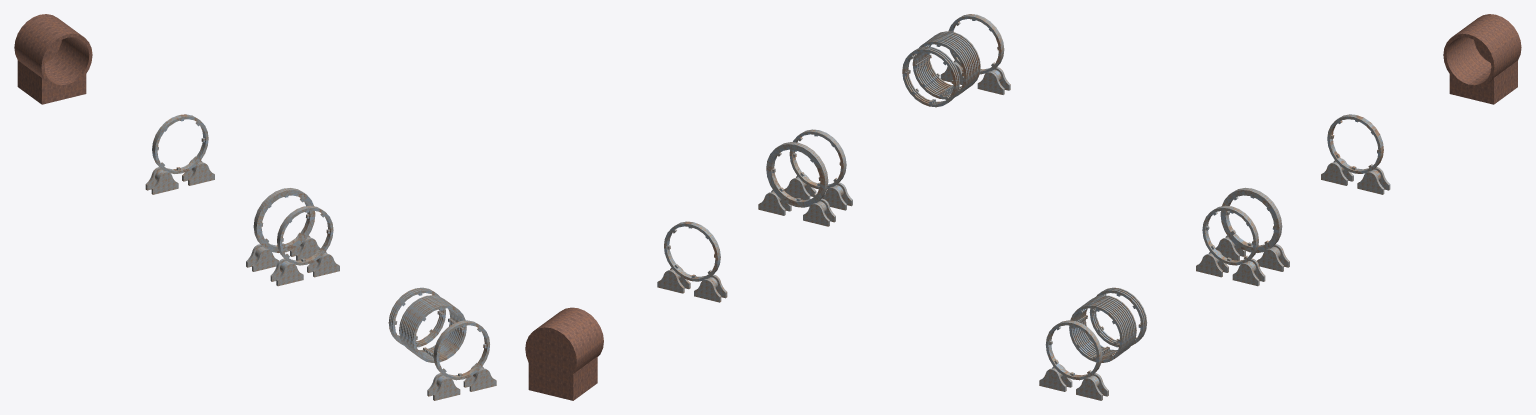
File: 大窑支撑.glb
3 views of the same model, side by side, from view 1: azimuth 30°, elevation 25°; view 2: azimuth 150°, elevation 25°; view 3: azimuth 330°, elevation 25° (orthographic).
Parts seen in each view (by area): view 1: root.014, root.001; view 2: root.014, root.001; view 3: root.014, root.001.
Boxes of the visible parts, box(x1,y1,x2,y2) form: root.014: box(145, 114, 496, 400); root.001: box(14, 14, 92, 104); root.014: box(657, 14, 1010, 302); root.001: box(525, 307, 603, 400); root.014: box(1039, 114, 1390, 400); root.001: box(1443, 14, 1521, 104).
Size of the model in its own units: 2.72 by 2.66 by 28.8.
2 materials, 2 textured.
